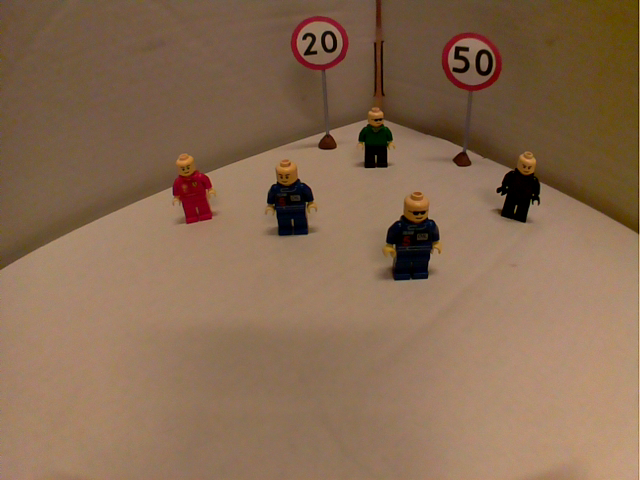Ograniczenie 20: (286, 13, 352, 74)
Ograniczenie 50: (436, 28, 506, 95)
Postac LEGO: (377, 183, 447, 288), (261, 155, 324, 240), (491, 147, 545, 230), (166, 147, 219, 228), (355, 105, 399, 171)
